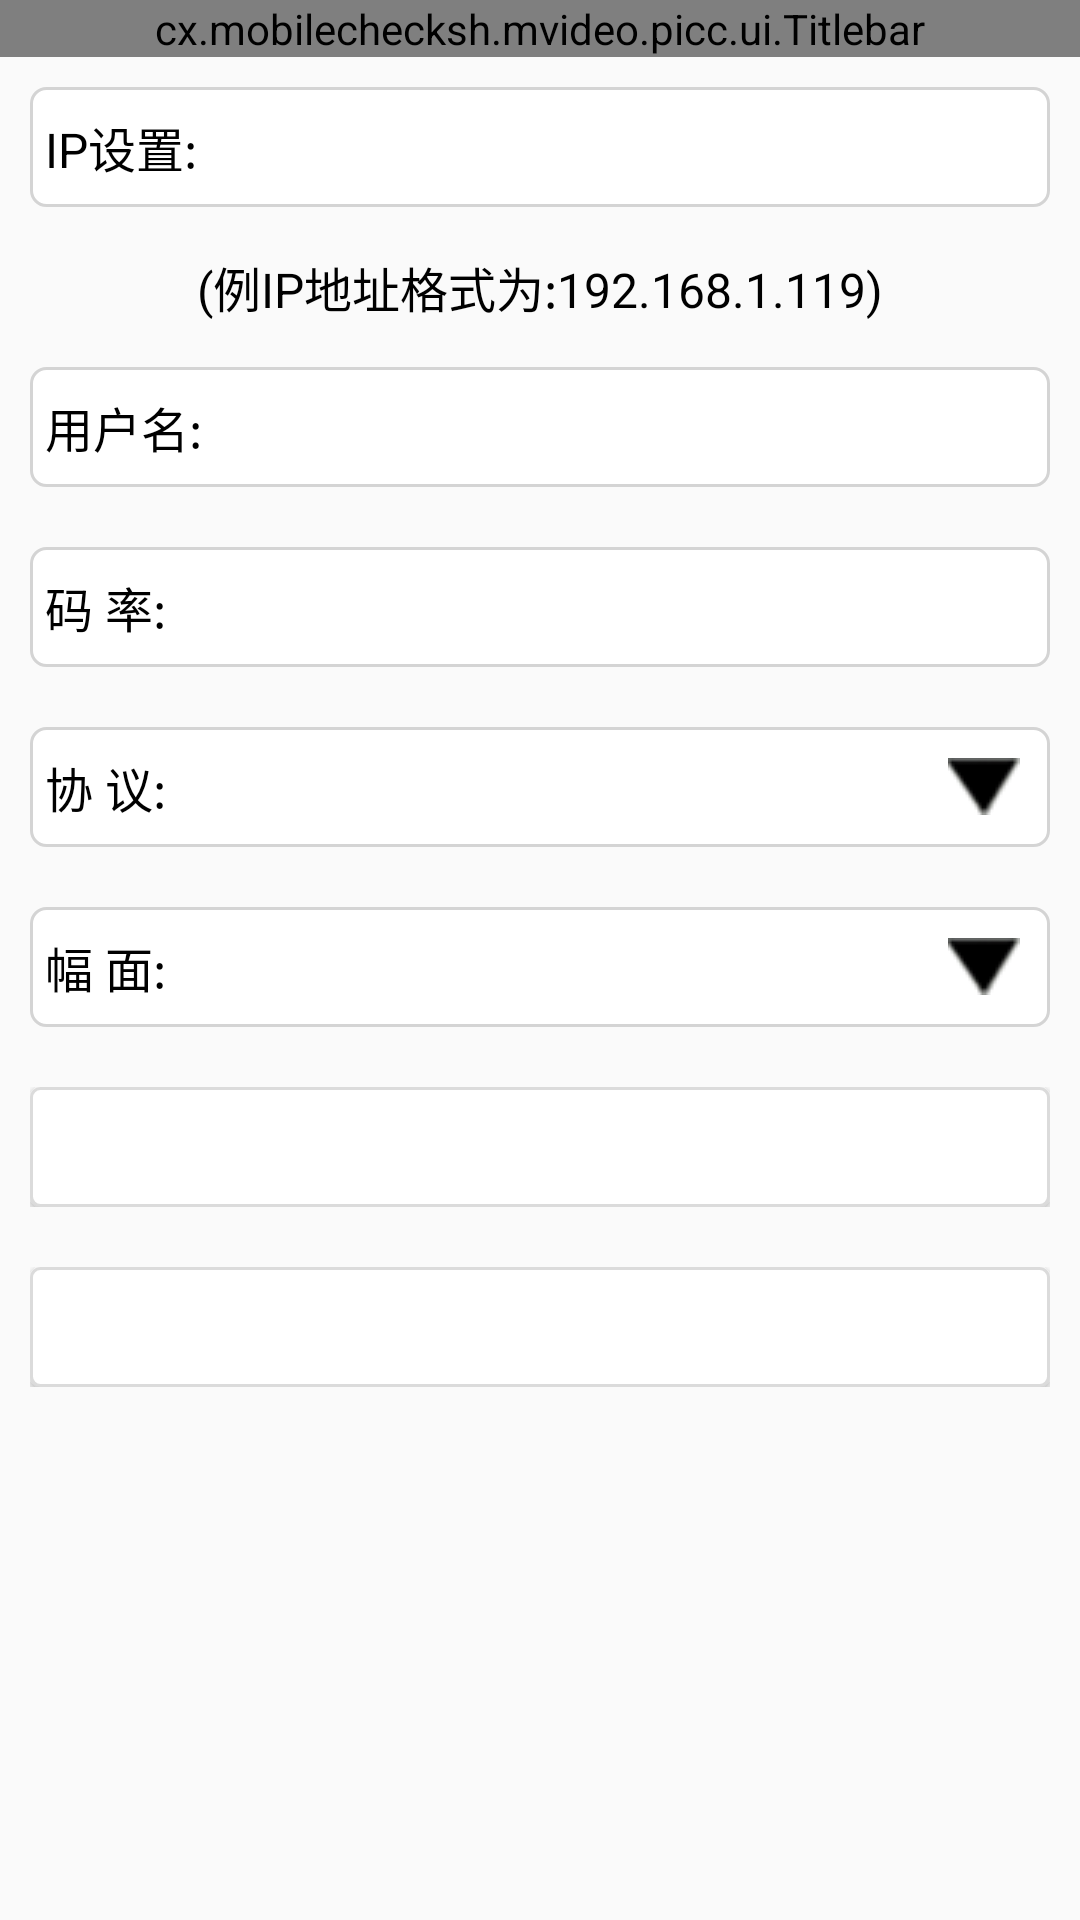

Icon bounding boxes for this 1080px×1920px phone screenshot, format box(x1, y1, x2, y2):
settingip triangle: box(948, 758, 1020, 815), box(948, 938, 1020, 995)
